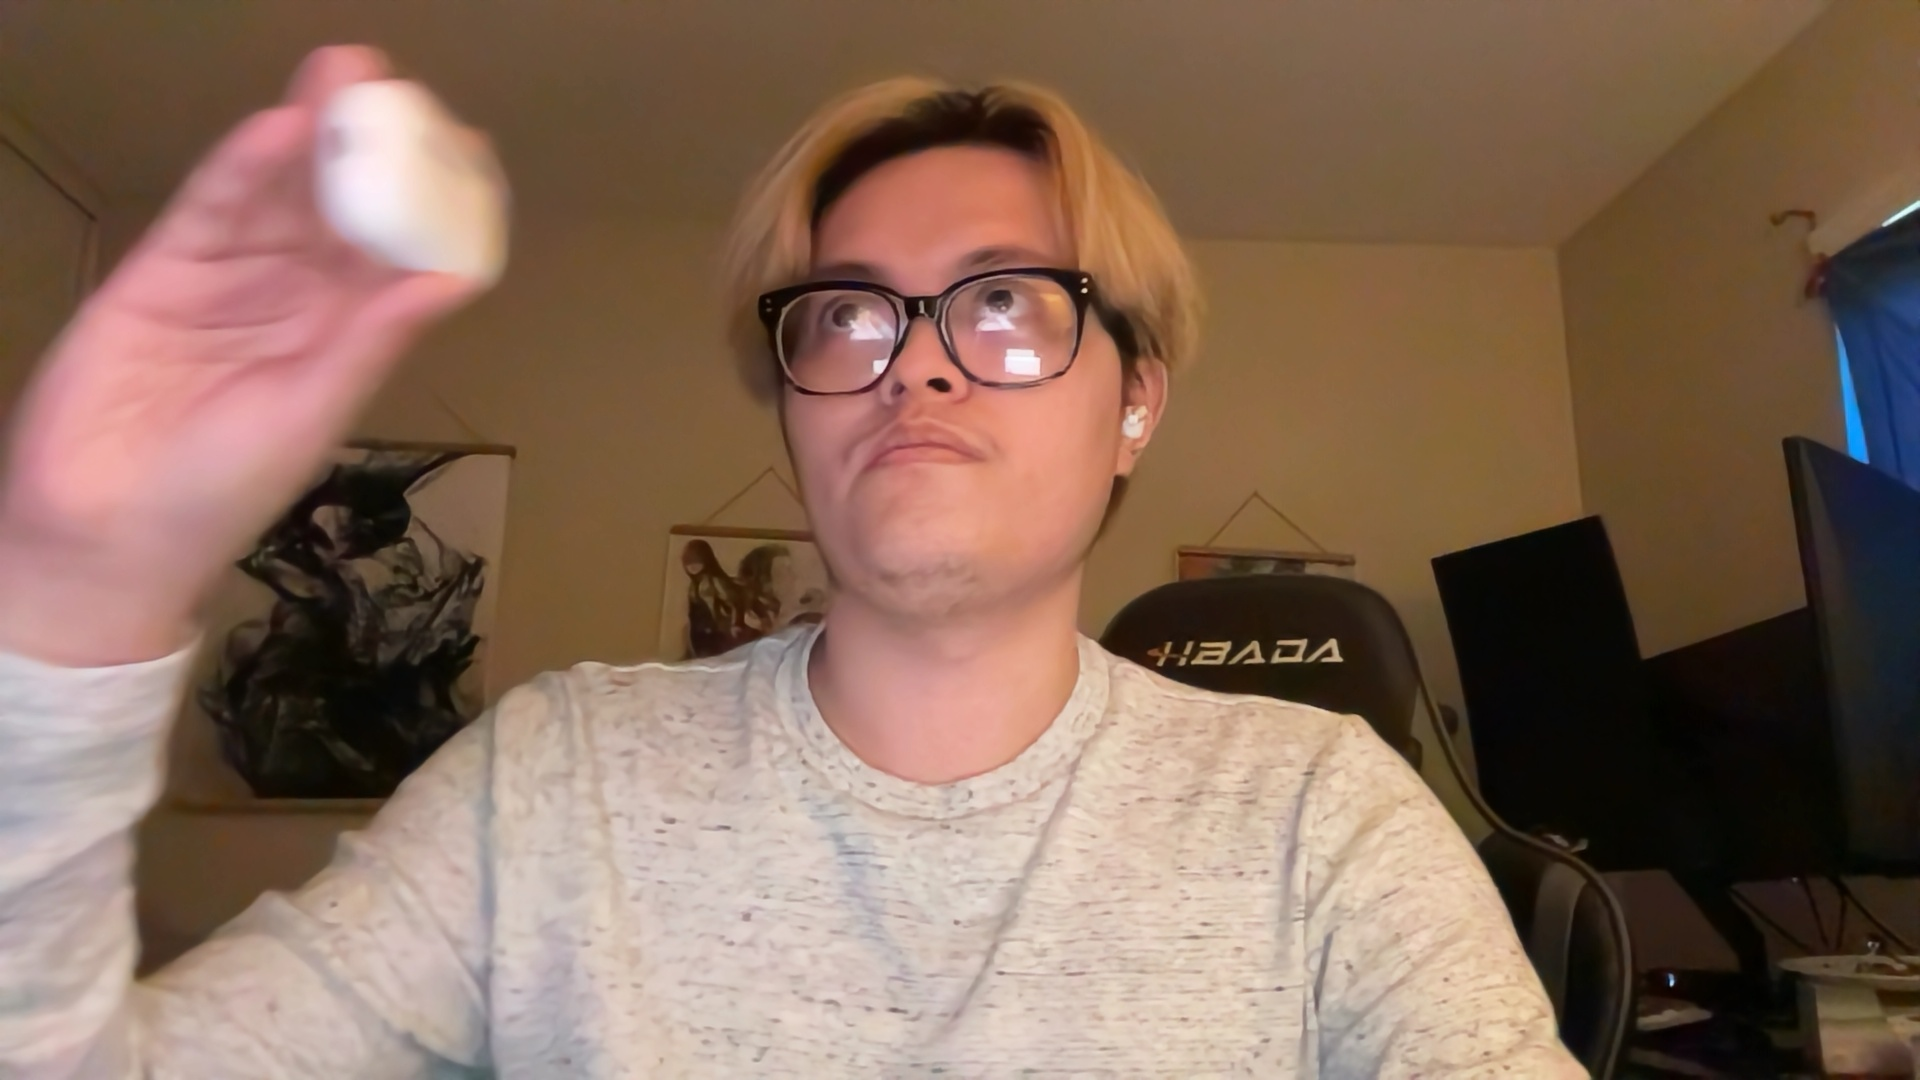airpods: (307, 70, 526, 298)
